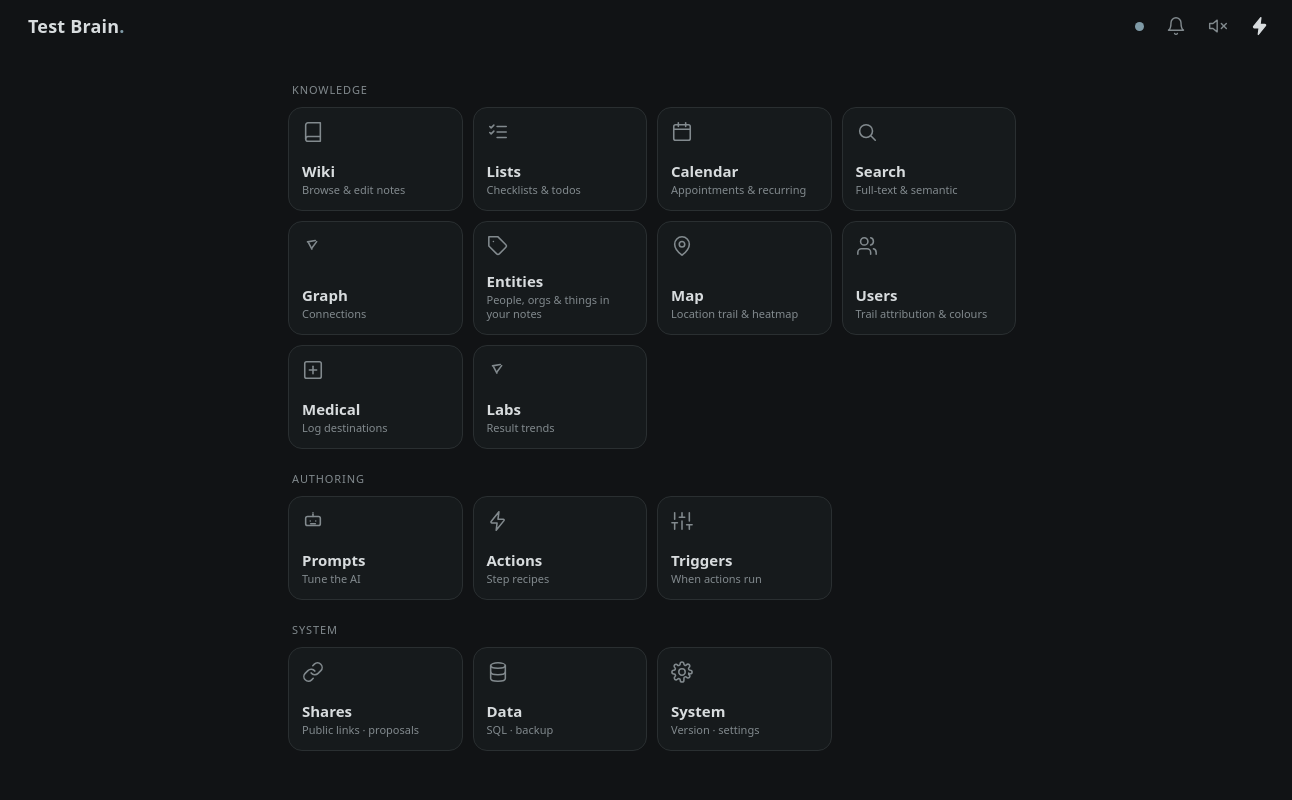
Shell — Advanced launcher navigation › picking a card opens that tool full-screen, and the back chevron returns
What coordinates should you click on to do the following:
click the button "Wiki Browse & edit notes"
I would click on:
 (375, 159)
Its box is [288,107,462,211].
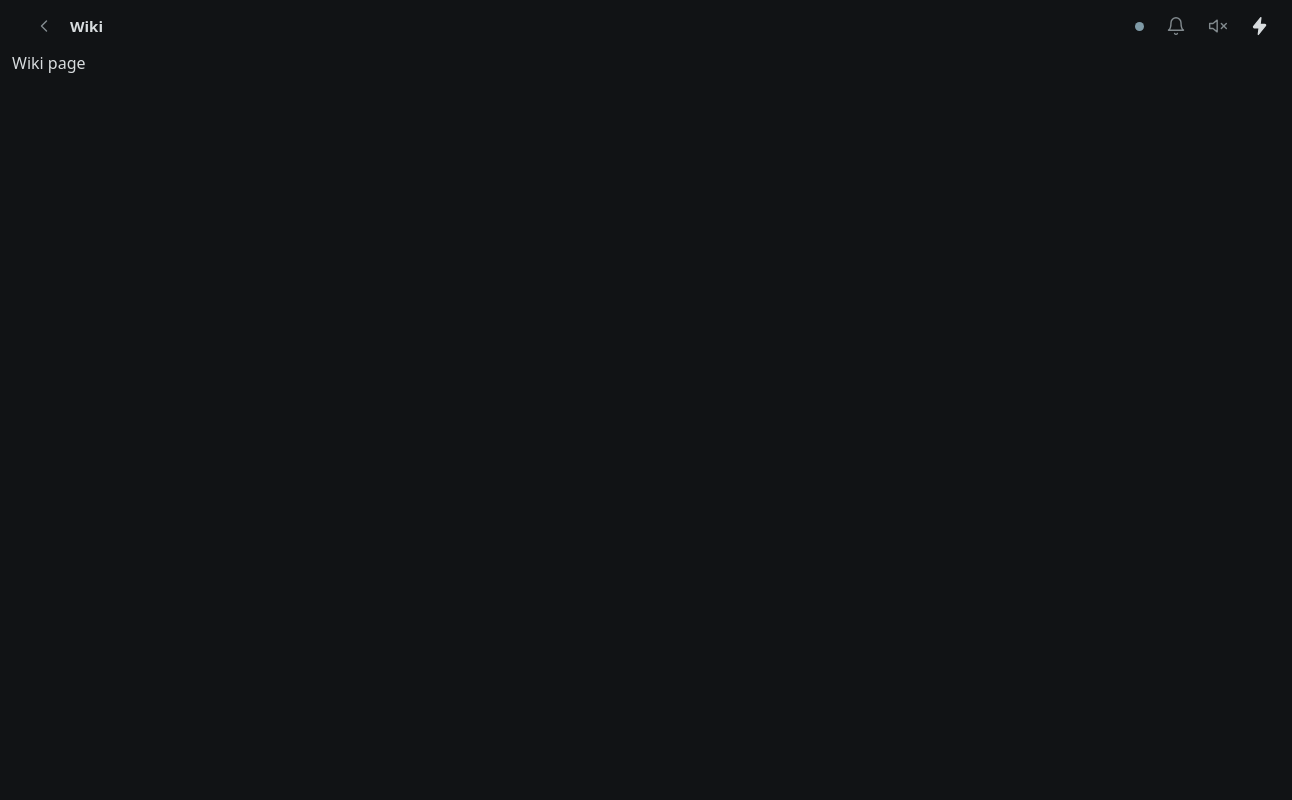
Check: the text "Wiki" is shown, box [70,16,103,36]
What coordinates should you click on to do the following:
click the button named "Back"
I would click on:
 (44, 26)
Its box is [28,10,60,42].
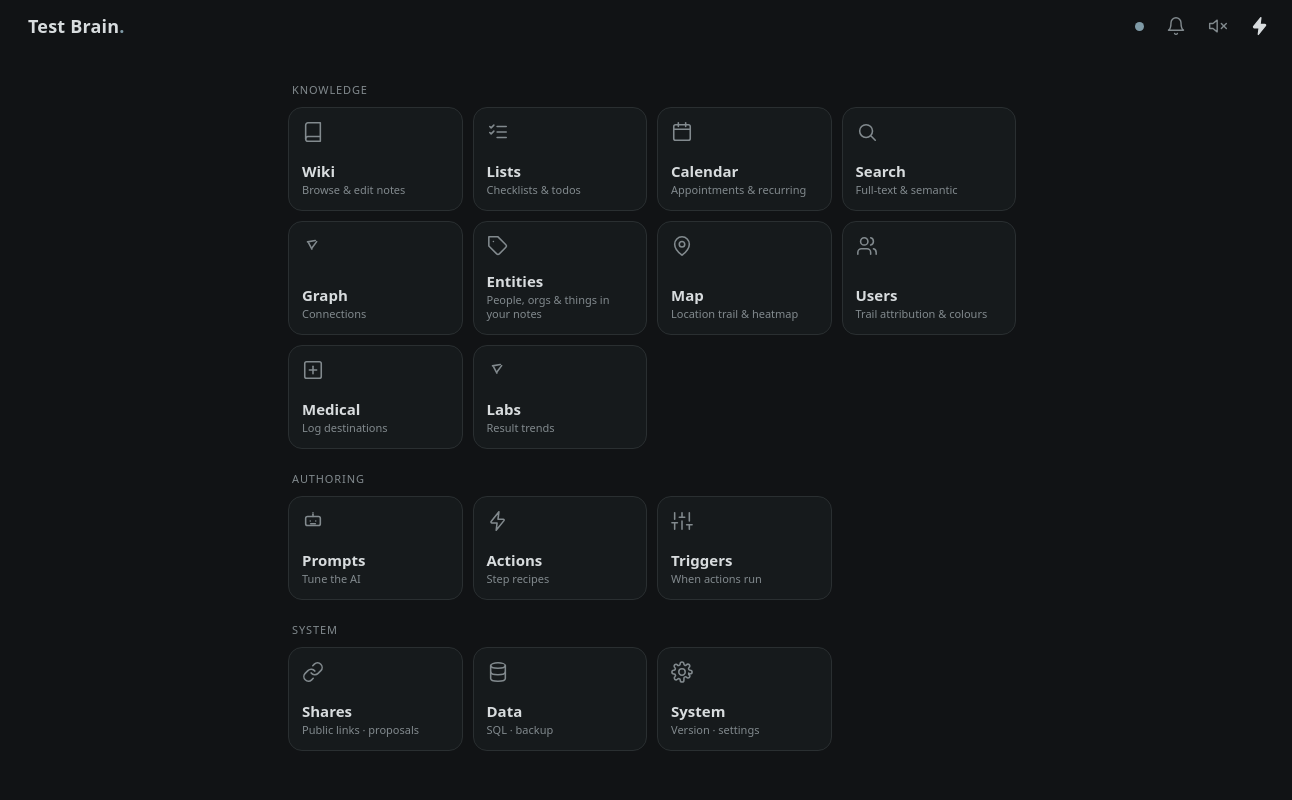
Check: the text "Knowledge" is shown, box [292,82,368,97]
